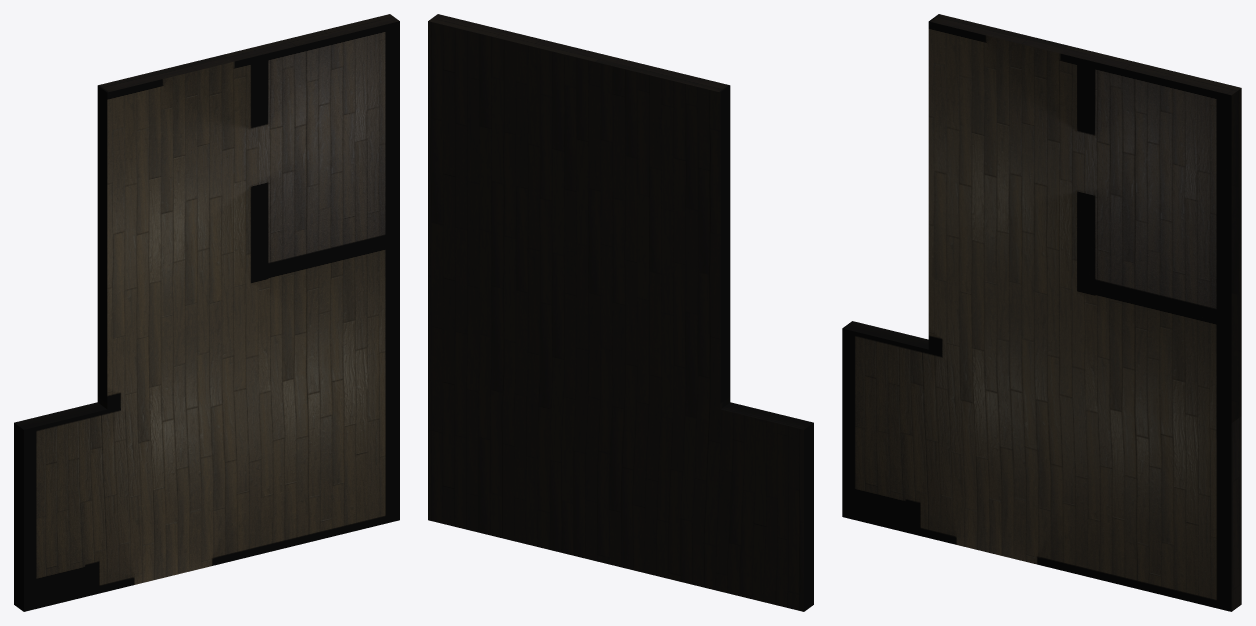
File: floor_3_vm.obj
The picture shows the model from 3 angles, left to right: view 1: azimuth 30°, elevation 25°; view 2: azimuth 150°, elevation 25°; view 3: azimuth 330°, elevation 25°; orthographic projection. The views are drawn at different scales.
Size of the model in its own units: 4.41 by 5.59 by 0.2.
Materials: 1 (1 with a texture image).
